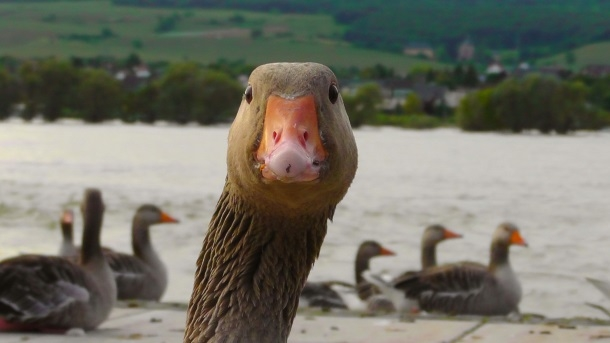goose: (149, 55, 362, 343), (1, 188, 116, 334), (407, 221, 530, 316), (108, 196, 186, 296), (304, 233, 400, 313), (405, 219, 460, 269), (53, 203, 78, 260)
